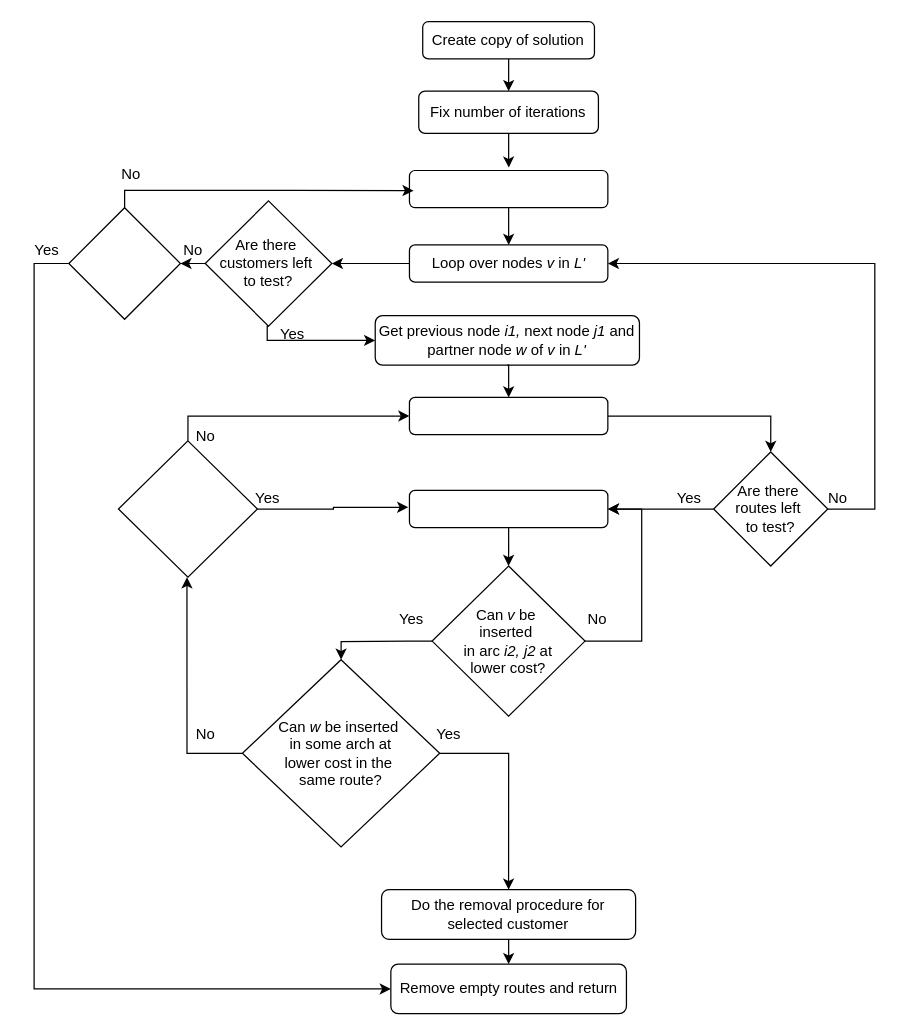
This 906x1035 diagram has some shape labels left out. The box of each missing label's shape, as (x1, y1, x2, y2) in pixels:
Are there nodes left to test in route L ?: (117, 440, 257, 577)
Finished iterations?: (68, 206, 180, 319)
Loop over arcs i2, j2 in L: (408, 489, 608, 528)
Loop over routes L: (408, 396, 608, 435)
Sample random route L': (408, 169, 608, 208)
